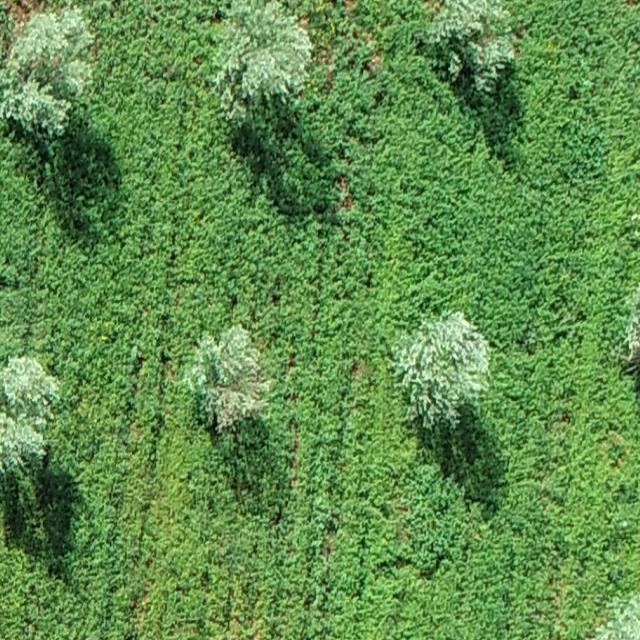trees: (0, 7, 92, 136), (216, 1, 312, 123), (394, 312, 491, 429), (185, 325, 269, 433), (427, 0, 516, 92), (0, 359, 58, 472)
